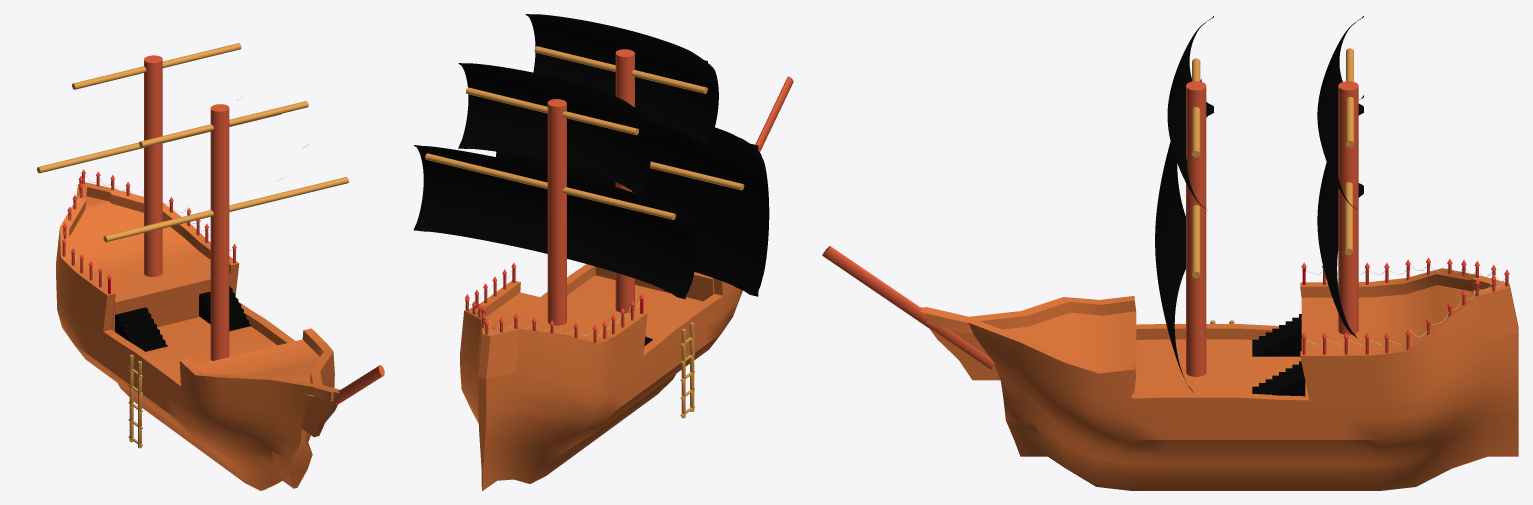
The model's file is boat.fbx.
3 renders of one model, left to right at view 1: azimuth 30°, elevation 25°; view 2: azimuth 150°, elevation 25°; view 3: azimuth 270°, elevation 25°, orthographic. The views are drawn at different scales.
Visible parts, largest first — view 1: Cube, Cylinder.028, Cylinder, Cylinder.001, Cube.002, Cylinder.031, Cylinder.029, Cube.003, Cylinder.030, Circle.001, Cylinder.002; view 2: Cube, Plane.002, Plane.003, Plane.001, Plane.004, Cylinder, Cylinder.028, Cylinder.030, Cylinder.031, Cylinder.029, Circle.001, Cylinder.001 (+1 smaller); view 3: Cube, Cylinder.028, Cylinder, Plane.003, Plane.002, Plane.001, Cylinder.002, Plane.004, Cube.002, Cube.003.
Part boxes in pixels (x1=…): Cube: x1=56, y1=182, x2=340, y2=490; Cylinder.028: x1=210, y1=104, x2=229, y2=360; Cylinder: x1=144, y1=55, x2=162, y2=276; Cylinder.001: x1=103, y1=177, x2=348, y2=242; Cube.002: x1=115, y1=307, x2=168, y2=351; Cylinder.031: x1=72, y1=43, x2=241, y2=89; Cylinder.029: x1=139, y1=101, x2=308, y2=147; Cube.003: x1=199, y1=286, x2=251, y2=331; Cylinder.030: x1=37, y1=113, x2=281, y2=173; Circle.001: x1=128, y1=354, x2=142, y2=448; Cylinder.002: x1=335, y1=365, x2=384, y2=405; Cube: x1=460, y1=264, x2=742, y2=490; Plane.002: x1=413, y1=145, x2=696, y2=299; Plane.003: x1=496, y1=121, x2=769, y2=296; Plane.001: x1=458, y1=63, x2=651, y2=195; Plane.004: x1=525, y1=14, x2=718, y2=146; Cylinder: x1=547, y1=99, x2=566, y2=325; Cylinder.028: x1=615, y1=49, x2=634, y2=313; Cylinder.030: x1=425, y1=153, x2=675, y2=219; Cylinder.031: x1=466, y1=87, x2=638, y2=135; Cylinder.029: x1=534, y1=46, x2=707, y2=93; Circle.001: x1=680, y1=322, x2=694, y2=418; Cylinder.001: x1=649, y1=161, x2=744, y2=190; Cube: x1=918, y1=268, x2=1518, y2=490; Cylinder.028: x1=1186, y1=81, x2=1206, y2=376; Cylinder: x1=1338, y1=81, x2=1358, y2=334; Plane.003: x1=1155, y1=79, x2=1201, y2=392; Plane.002: x1=1317, y1=95, x2=1363, y2=338; Plane.001: x1=1317, y1=16, x2=1363, y2=209; Cylinder.002: x1=822, y1=246, x2=994, y2=369; Plane.004: x1=1167, y1=16, x2=1213, y2=210; Cube.002: x1=1252, y1=314, x2=1301, y2=356; Cube.003: x1=1252, y1=361, x2=1305, y2=396.
Size of the model in its own units: 8304 by 11017 by 16285.
